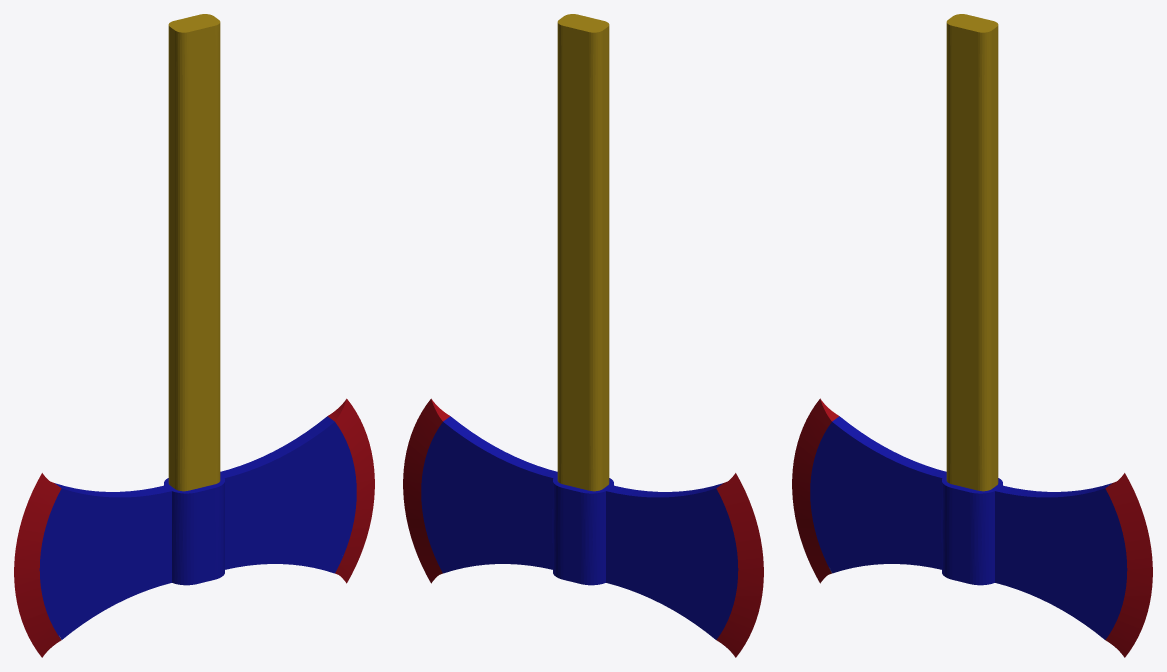
Rendered from axe.obj.
3 views of the same model, side by side, from view 1: azimuth 30°, elevation 25°; view 2: azimuth 150°, elevation 25°; view 3: azimuth 330°, elevation 25° (orthographic).
Visible parts, largest first — view 1: Axemesh; view 2: Axemesh; view 3: Axemesh.
Boxes of the visible parts, box(x1,y1,x2,y2) form: Axemesh: box(14, 14, 374, 657); Axemesh: box(403, 14, 763, 657); Axemesh: box(792, 14, 1152, 657).
Size of the model in its own units: 8.23 by 13.03 by 0.9.
